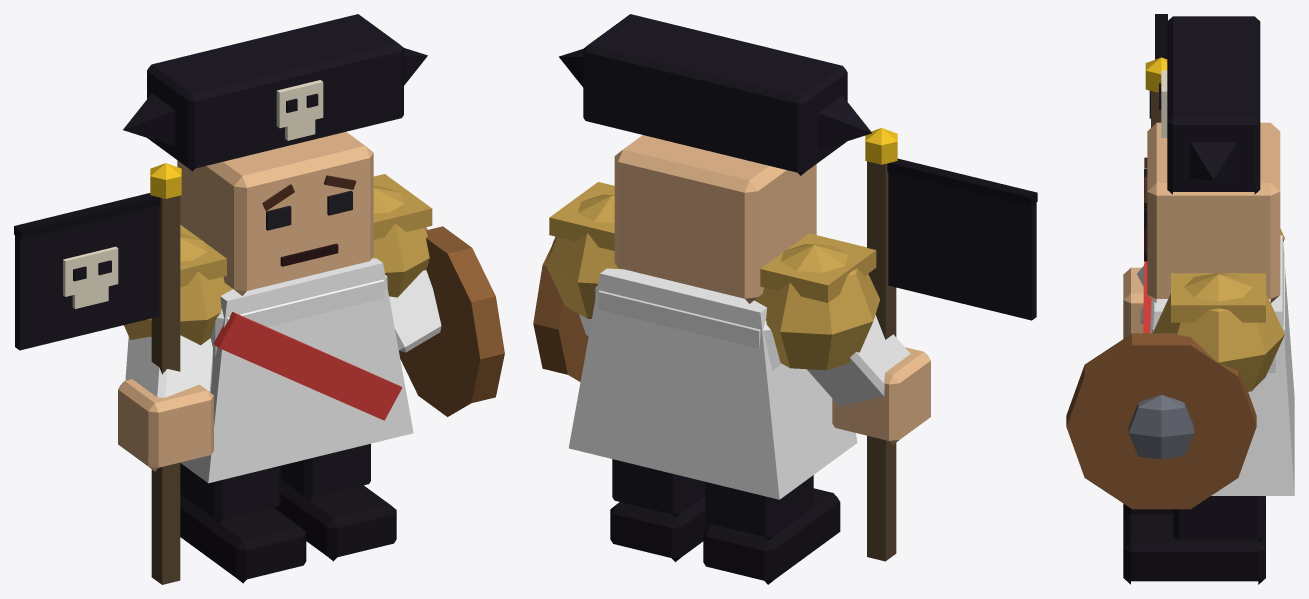
The model's file is r13_mini_first_mate.glb.
3 views of the same model, side by side, from view 1: azimuth 30°, elevation 25°; view 2: azimuth 150°, elevation 25°; view 3: azimuth 270°, elevation 25° (orthographic). The views are drawn at different scales.
Visible parts, largest first — view 1: r13_mini_first_mate_mesh; view 2: r13_mini_first_mate_mesh; view 3: r13_mini_first_mate_mesh.
Boxes of the visible parts, <box> form: r13_mini_first_mate_mesh: <box>14,14,504,584</box>; r13_mini_first_mate_mesh: <box>533,14,1037,584</box>; r13_mini_first_mate_mesh: <box>1066,14,1294,584</box>.
Bounding box in the file's own units: 4.61 × 4.6 × 1.97.
1 material, 1 textured.
